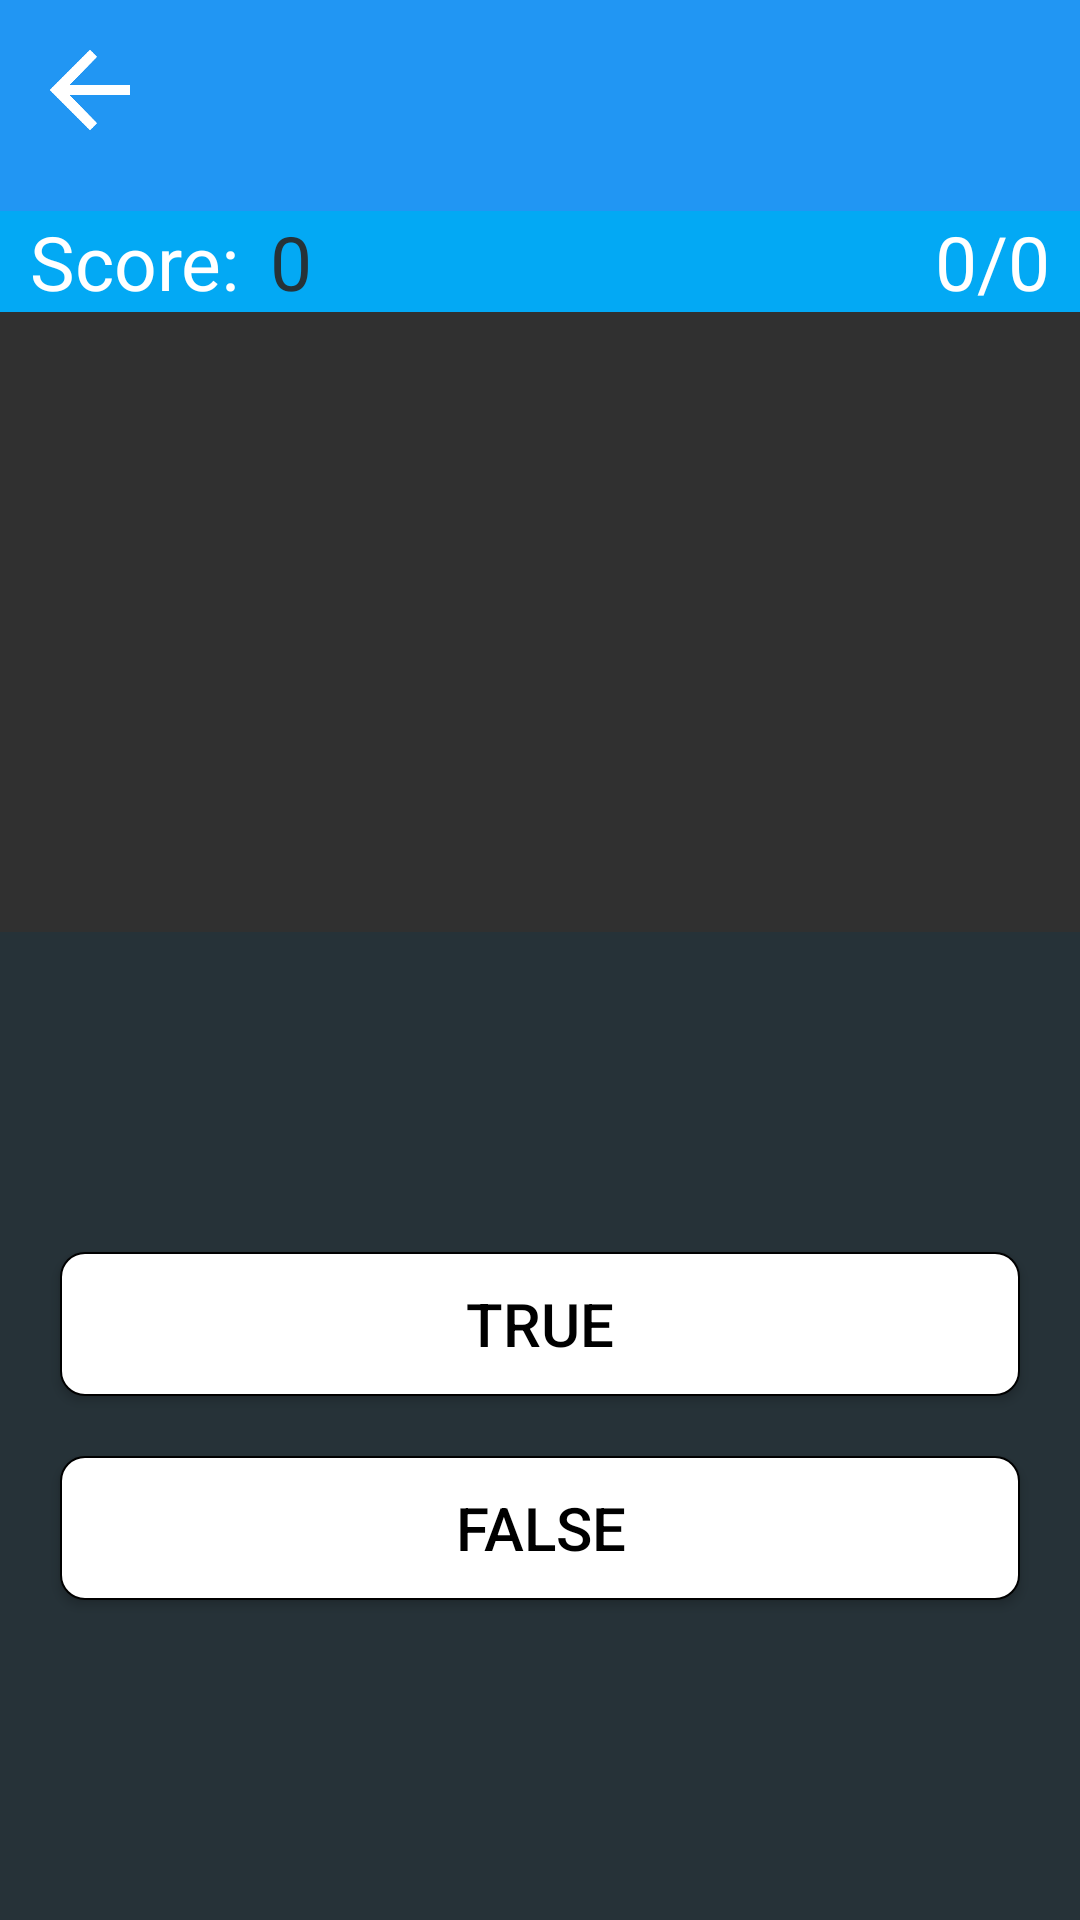

Icons on this 1080 × 1920 Android screen, each with its box as (x1, y1, x2, y2):
back arrow: (50, 50, 130, 130)
